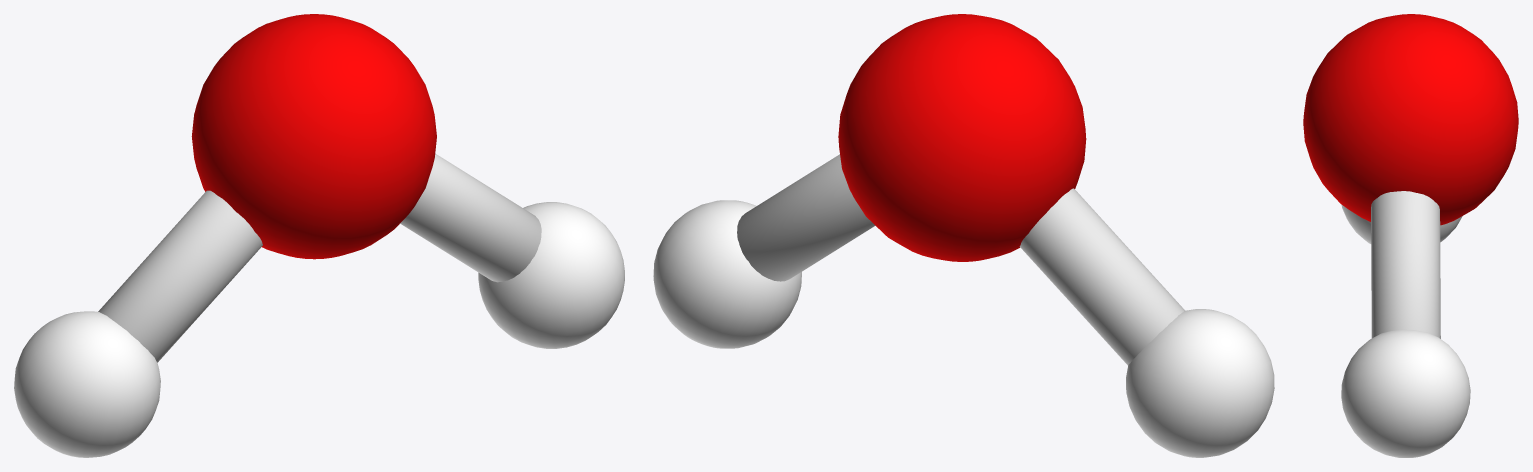
The picture shows the model from 3 angles, left to right: view 1: azimuth 30°, elevation 25°; view 2: azimuth 150°, elevation 25°; view 3: azimuth 270°, elevation 25°; orthographic projection. The views are drawn at different scales.
Visible parts, largest first — view 1: 구체, 구체.004, 구체.003, 실린더, 실린더.003; view 2: 구체, 구체.004, 구체.003, 실린더, 실린더.003; view 3: 구체, 구체.003, 실린더.003, 구체.004.
Part boxes in pixels (x1,y1,x2,y2): 구체: [191, 14, 436, 259]; 구체.004: [14, 311, 160, 457]; 구체.003: [478, 202, 624, 348]; 실린더: [98, 190, 262, 362]; 실린더.003: [400, 153, 541, 282]; 구체: [838, 14, 1086, 261]; 구체.004: [1126, 309, 1274, 457]; 구체.003: [653, 200, 801, 348]; 실린더: [1019, 188, 1184, 365]; 실린더.003: [737, 154, 875, 281]; 구체: [1303, 14, 1518, 225]; 구체.003: [1341, 329, 1470, 457]; 실린더.003: [1371, 191, 1440, 338]; 구체.004: [1341, 204, 1462, 243].
Size of the model in its own units: 697 by 418 by 249.
